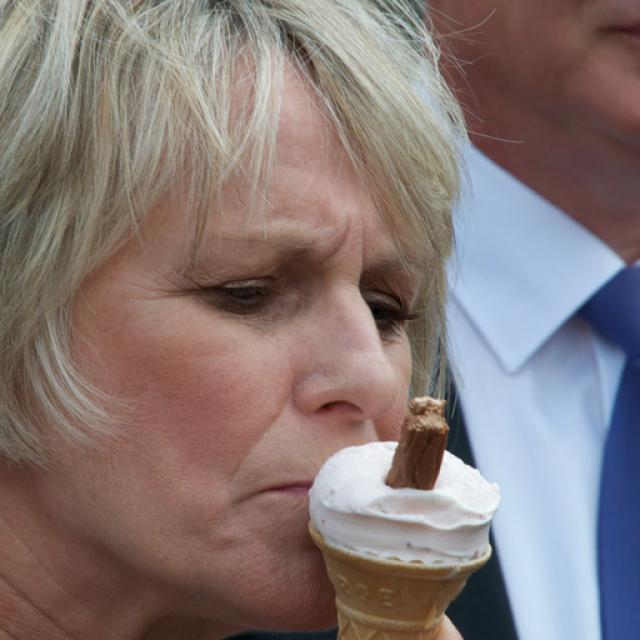sad: (26, 50, 425, 640)
